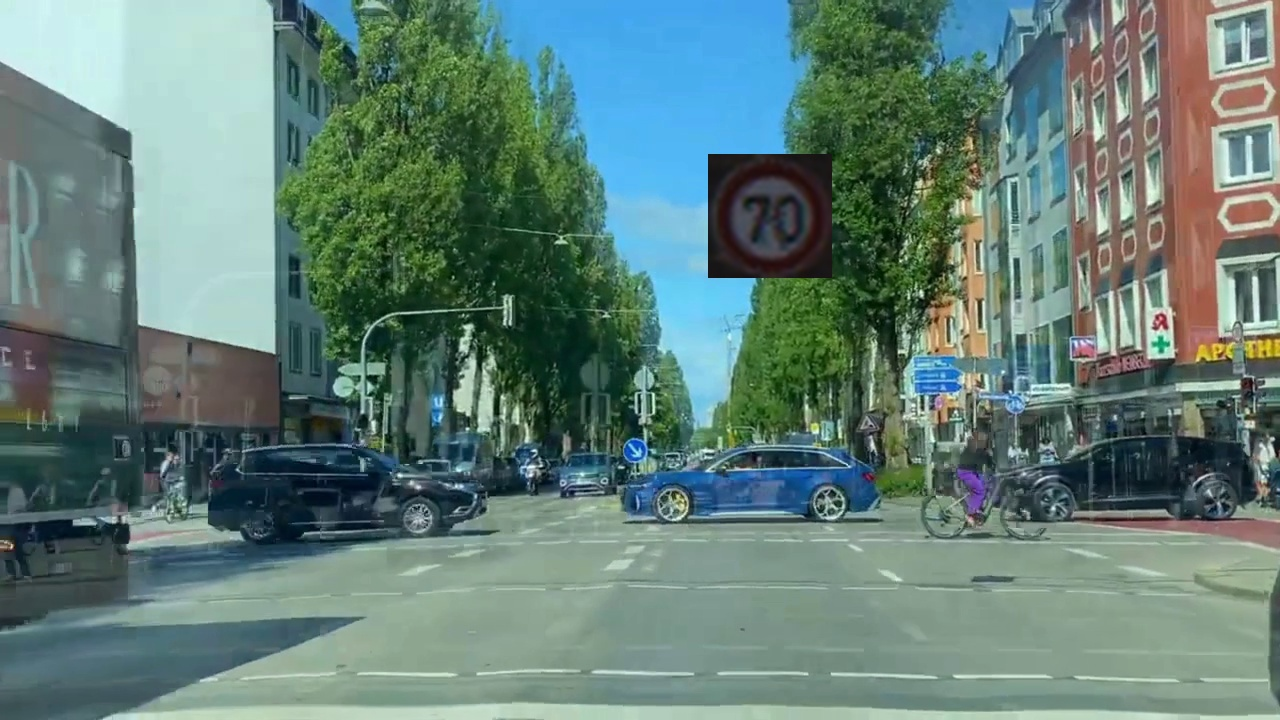Speed 70: (708, 154, 832, 278)
